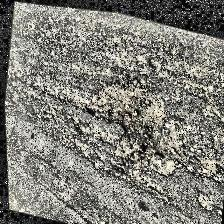pothole: (76, 59, 190, 185)
